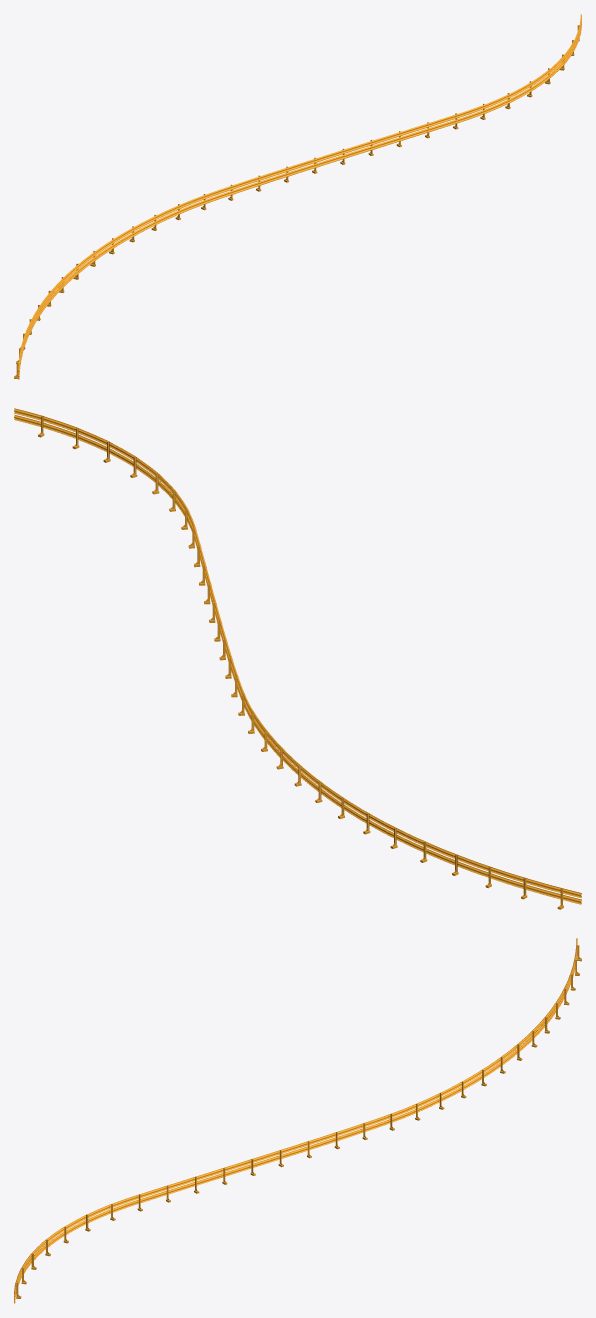
Rendered from SM_Fence_Road_WBeam_Double_Color_60x40m_Shift.fbx.
The picture shows the model from 3 angles, top to bottom: view 1: azimuth 90°, elevation 25°; view 2: azimuth 150°, elevation 25°; view 3: azimuth 270°, elevation 25°; orthographic projection. The views are drawn at different scales.
Visible parts, largest first — view 1: SM_Fence_Road_WBeam_Double_Color_60x40m_Shift; view 2: SM_Fence_Road_WBeam_Double_Color_60x40m_Shift; view 3: SM_Fence_Road_WBeam_Double_Color_60x40m_Shift.
Part boxes in pixels (box(x1,y1,x2,y2)): SM_Fence_Road_WBeam_Double_Color_60x40m_Shift: box(14, 14, 581, 379); SM_Fence_Road_WBeam_Double_Color_60x40m_Shift: box(14, 408, 581, 909); SM_Fence_Road_WBeam_Double_Color_60x40m_Shift: box(14, 938, 581, 1303).
Bounding box in the file's own units: 60 × 1.2 × 40.4.
